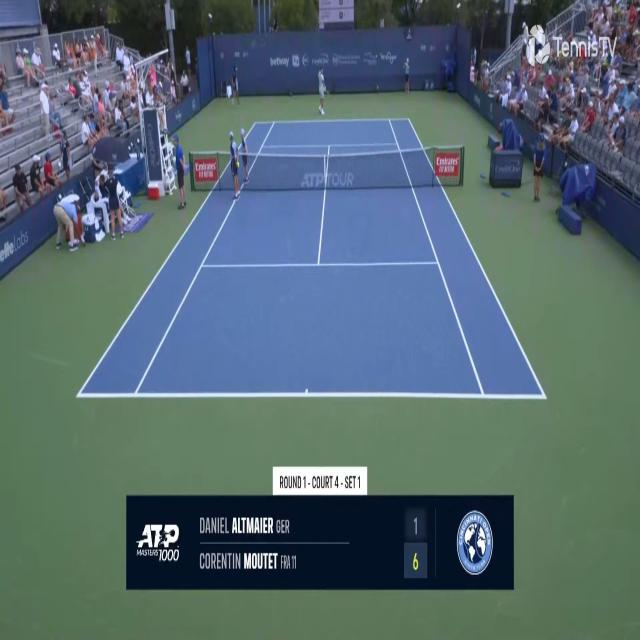tennis-player: (316, 66, 329, 118)
